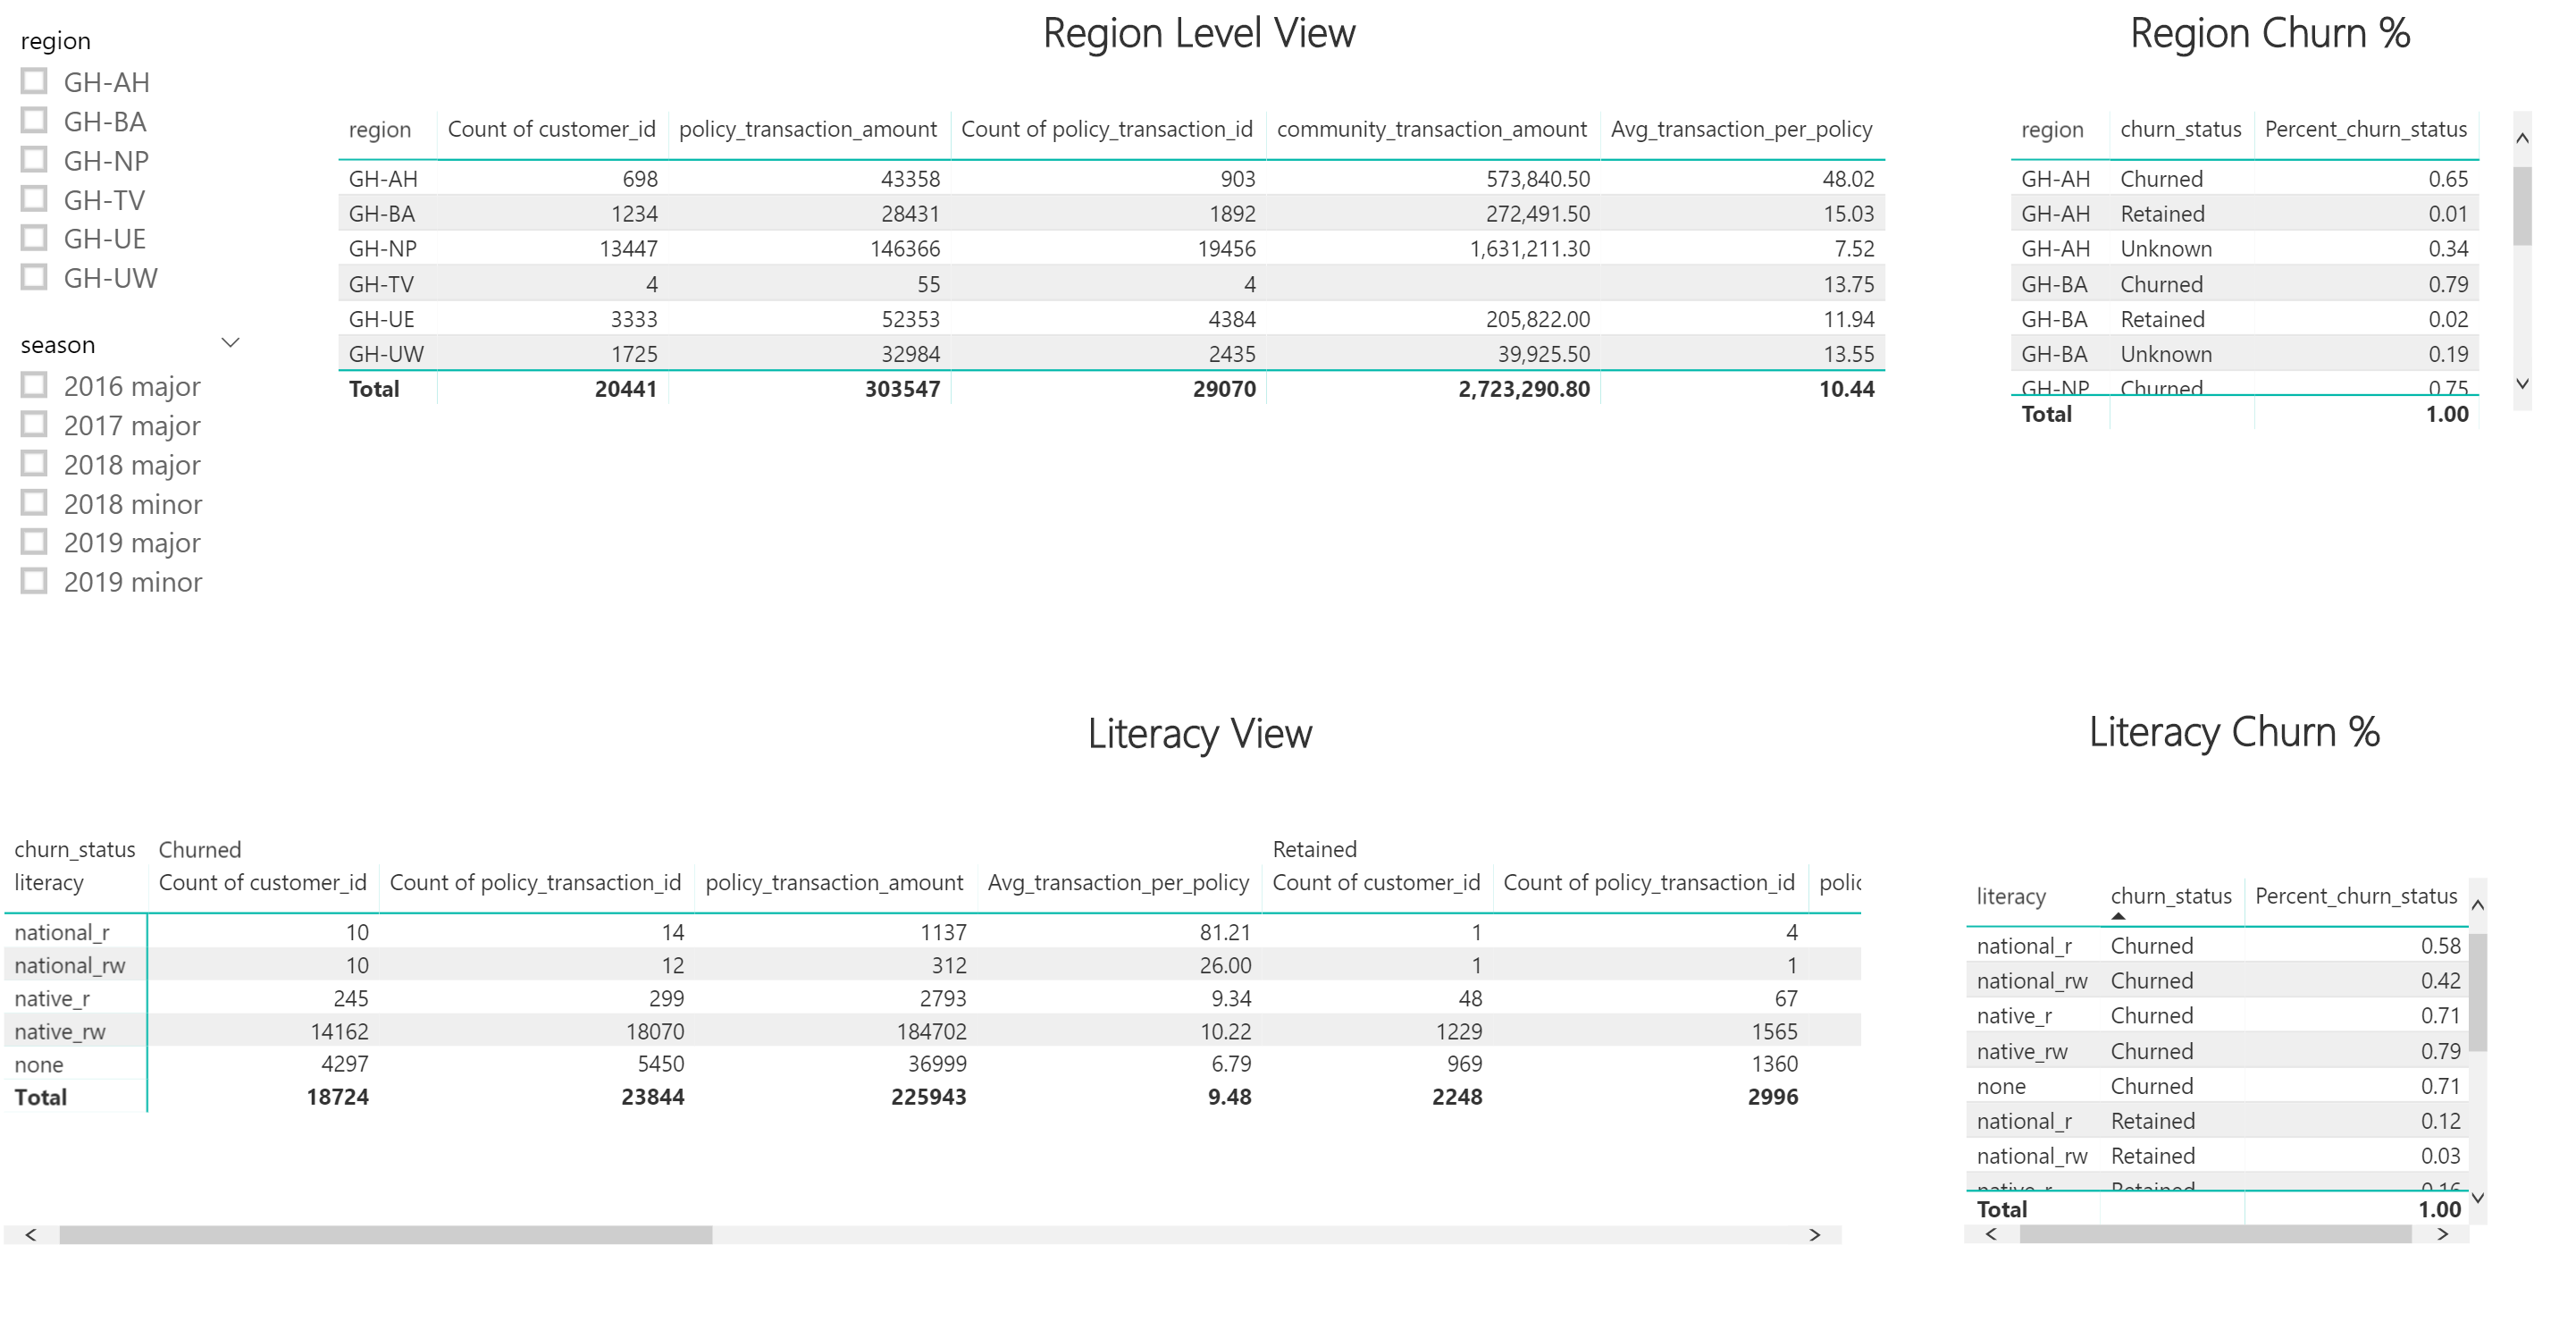

This screenshot's page, from the dashboard's own definition file:
{"tool":"powerbi","page":{"name":"Churn Deep Dive","canvas":[1280,720],"ordinal":2},"visuals":[{"type":"tableEx","fields":{"Values":["Final_table.region","Count(Final_table.customer_id)","Sum(Final_table.policy_transaction_amount)","Count(Final_table.policy_transaction_id)","Sum(Final_table.community_transaction_amount)","Final_table.Avg_transaction_per_id"]},"box":[161.3,53.3,770.3,164.1],"z":0},{"type":"pivotTable","fields":{"Rows":["Final_table.literacy"],"Columns":["Final_table.churn_status"],"Values":["Count(Final_table.customer_id)","Count(Final_table.policy_transaction_id)","Sum(Final_table.policy_transaction_amount)","Final_table.Avg_transaction_per_policy"]},"box":[0,401.7,910,210.2],"z":1000},{"type":"slicer","fields":{"Values":["Final_table.region"]},"box":[0,9.5,105,147.3],"z":2000},{"type":"slicer","fields":{"Values":["Final_table.season"]},"box":[0,156.8,132.3,160.9],"z":3000},{"type":"textbox","box":[436.4,0,295.9,42.3],"z":4000},{"type":"tableEx","fields":{"Values":["Final_table.region","Final_table.churn_status","Final_table.Percent_churn_status"]},"box":[971.9,53.3,263.5,164.1],"z":5000},{"type":"tableEx","fields":{"Values":["Final_table.literacy","Final_table.churn_status","Final_table.Percent_churn_status"]},"box":[950.3,424.7,263.5,187.2],"z":6000},{"type":"textbox","box":[956,0,296.6,41.8],"z":7000},{"type":"textbox","box":[436.3,339.8,296.6,41.8],"z":8000},{"type":"textbox","box":[938.8,338.4,296.6,41.8],"z":9000}]}

Visuals, with their boxes on the page's 1280x720 design canvas (x1, y1, x2, y2). These are canvas units, not pixel positions in the 2576x1321 screenshot, which may show the page scaled, cropped or inside an application window:
tableEx - Final_table.region x Count(Final_table.customer_id): 161:53:932:217
pivotTable - Final_table.literacy x Final_table.churn_status: 0:402:910:612
slicer - Final_table.region: 0:10:105:157
slicer - Final_table.season: 0:157:132:318
textbox: 436:0:732:42
tableEx - Final_table.region x Final_table.churn_status: 972:53:1235:217
tableEx - Final_table.literacy x Final_table.churn_status: 950:425:1214:612
textbox: 956:0:1253:42
textbox: 436:340:733:382
textbox: 939:338:1235:380
